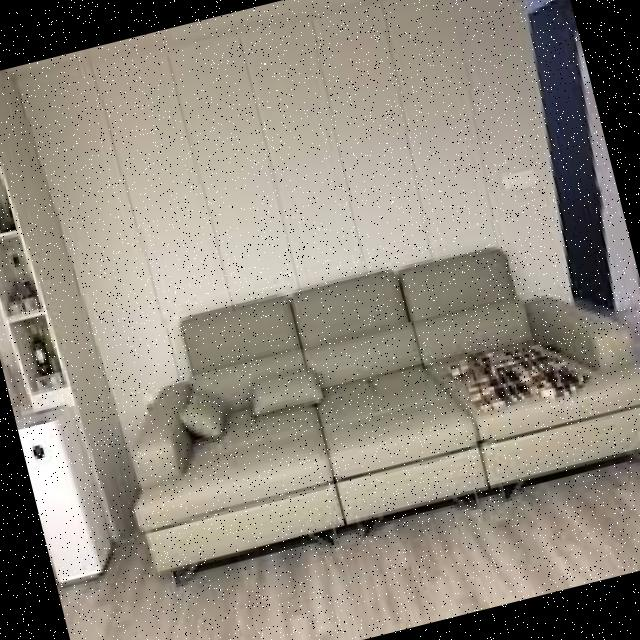Sofa: (69, 195, 640, 609)
